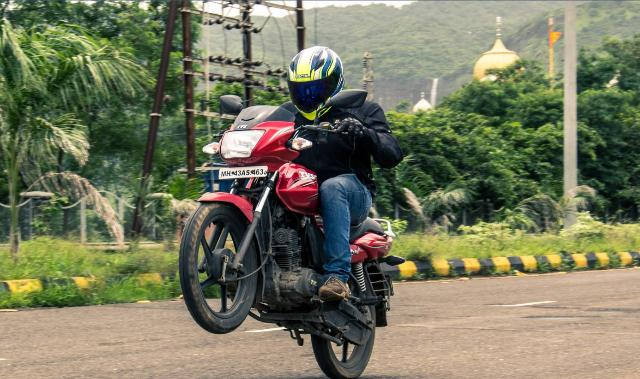licensePlate: (210, 161, 277, 179)
motorcycle: (174, 31, 400, 379)
withHelmet: (288, 42, 345, 103)
